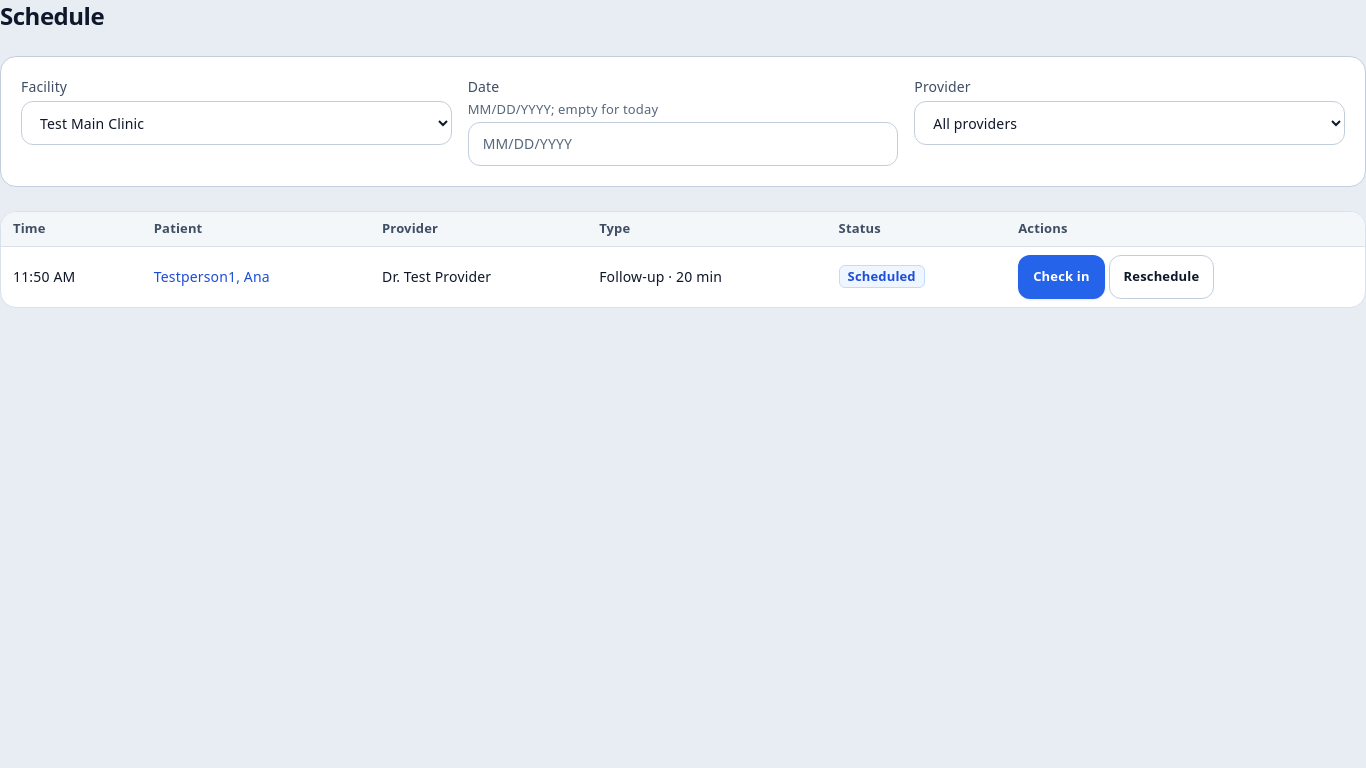
Test: SchedulePage › shows a refused check-in in plain words and keeps the dialog open
The image size is (1366, 768).
Click the button with aria-label "Check in Testperson1, Ana" at (1061, 277), box [1018,255,1105,299]
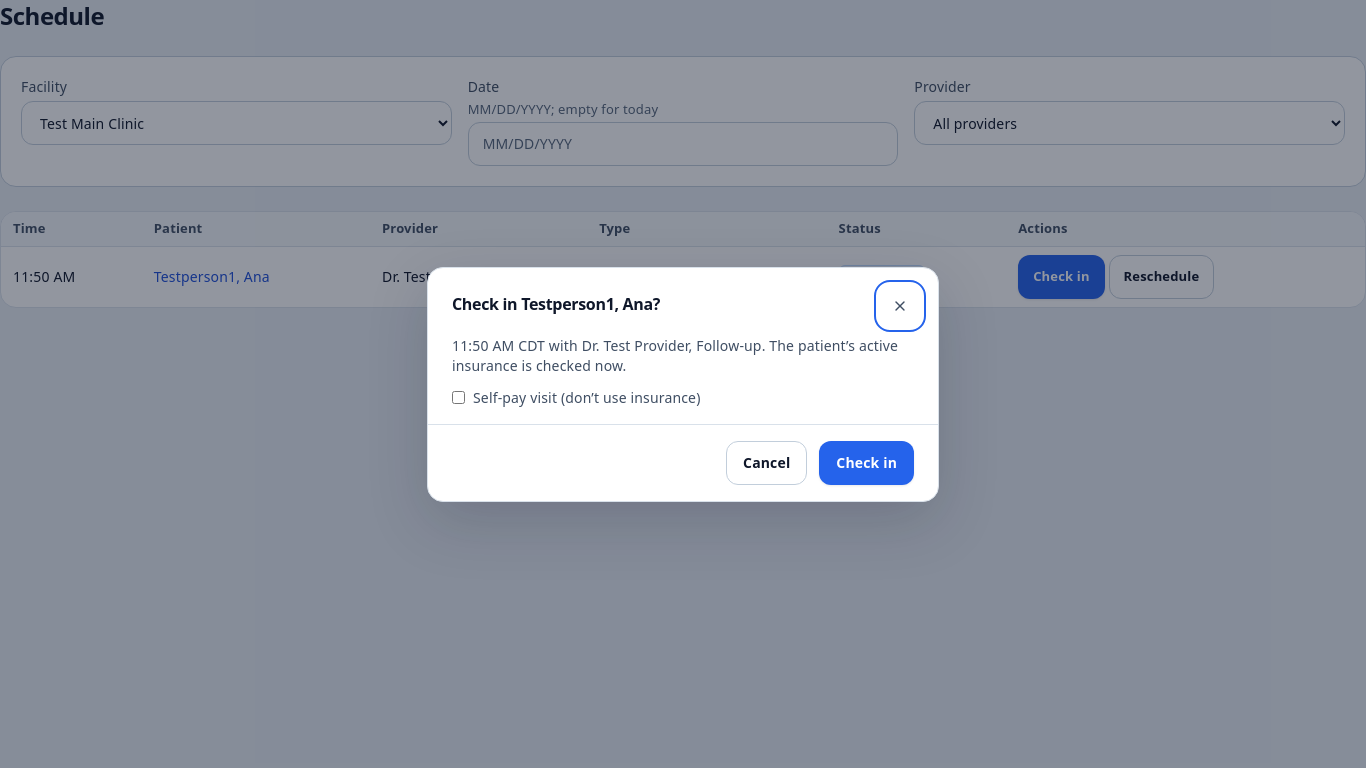
Click the button "Check in" at (867, 462), box [819,440,914,484]
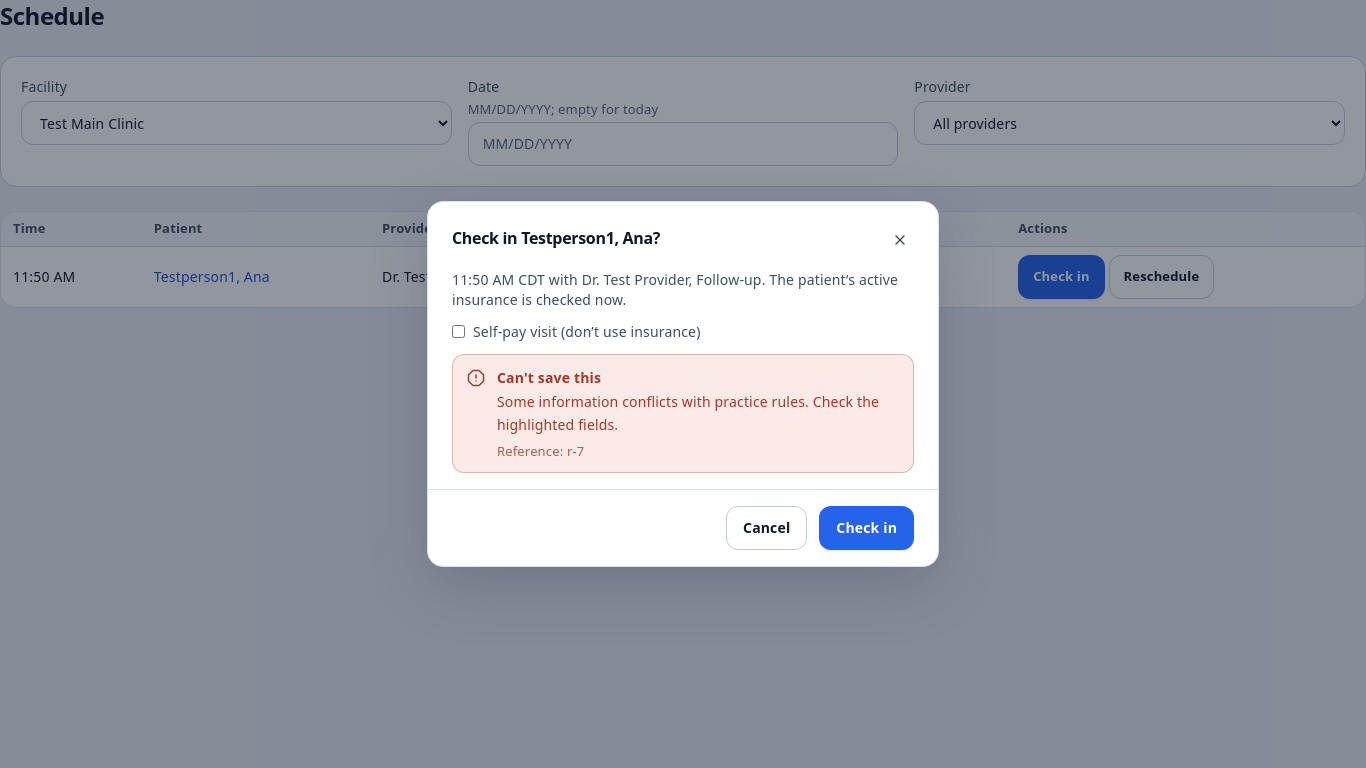
Expected: the dialog is shown, [427,201,939,567]
Expected: the text "Reference: r-7" is shown, [497,442,584,460]
